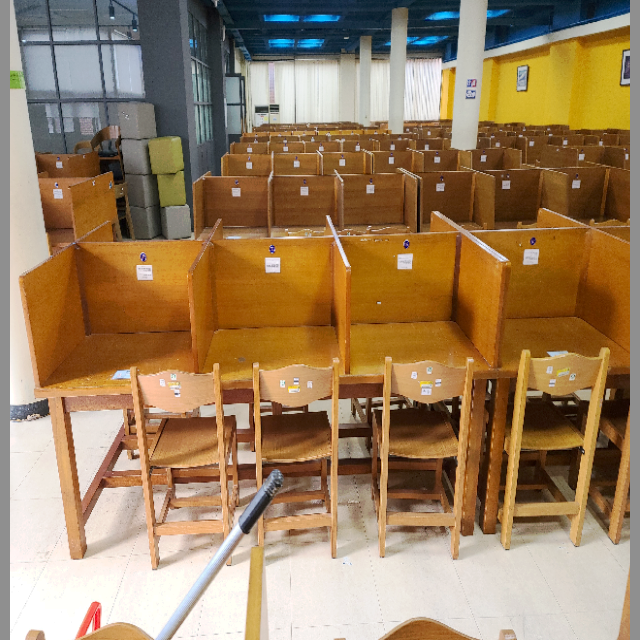empty: (21, 256, 191, 469), (351, 229, 491, 457), (197, 254, 348, 463)
